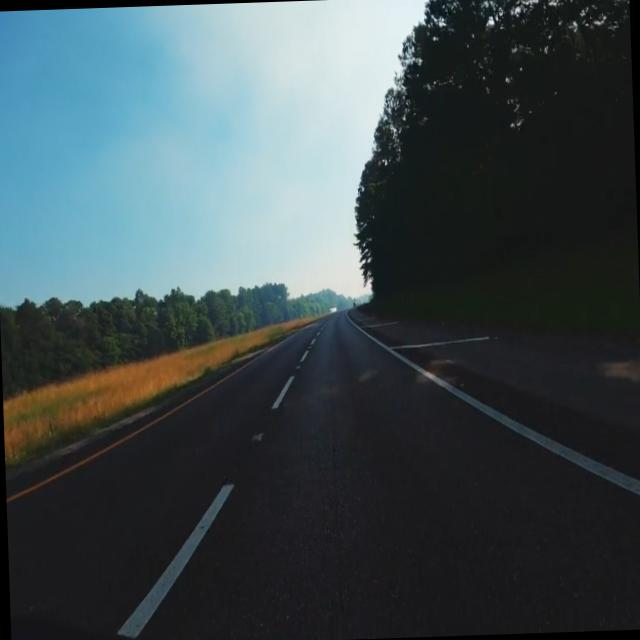asphalt: (6, 313, 640, 640)
grass: (3, 317, 316, 464)
